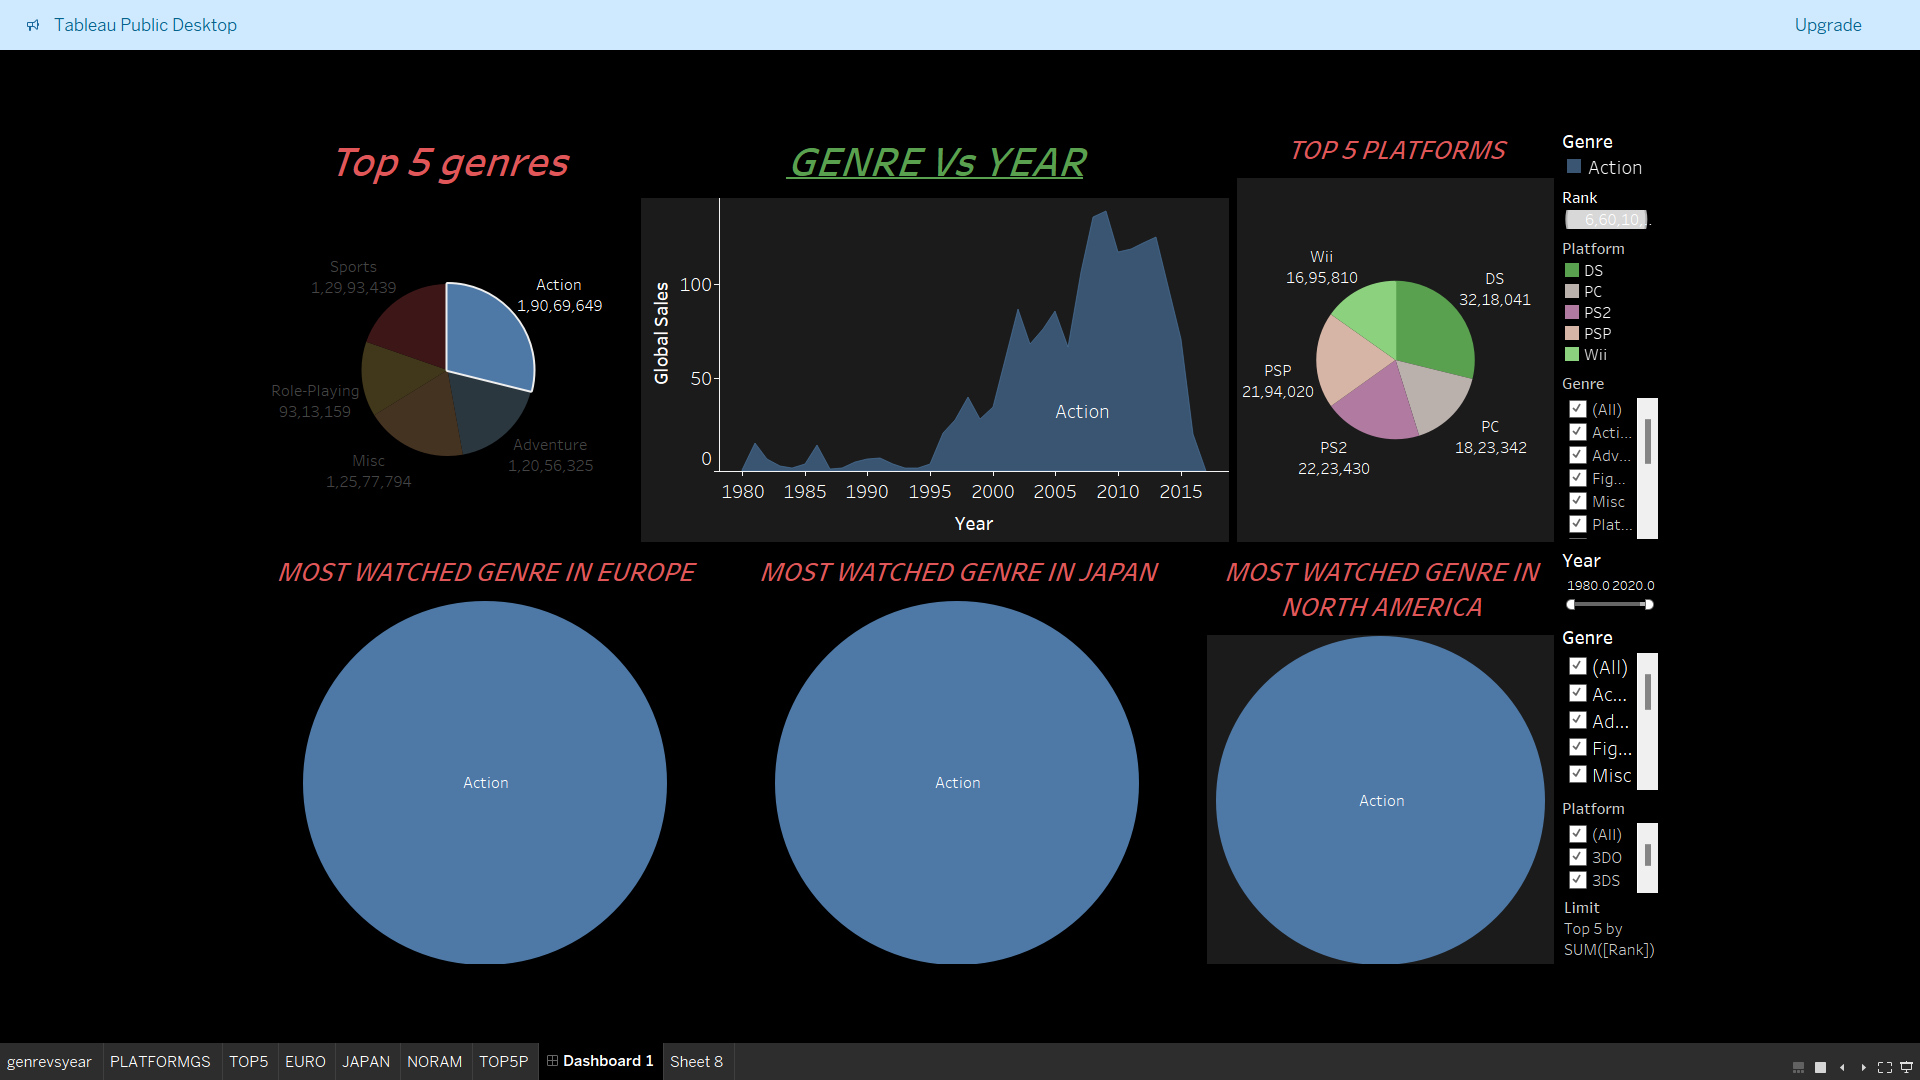

Layout of this report page (visuals, bound fields, positions):
{"tool":"tableau","page":{"name":"Dashboard 1","canvas":[1000,1000],"units":"permille","ordinal":0},"visuals":[{"type":"worksheet","title":"TOP5","mark":"Pie","box":[6.1,10.6,265.1,489.4]},{"type":"worksheet","title":"genrevsyear","mark":"Area","rows":["global_sales"],"cols":["year"],"box":[271.1,10.6,416.7,489.4]},{"type":"worksheet","title":"TOP5P","mark":"Pie","box":[687.8,10.6,227.4,489.4]},{"type":"legend","title":"genrevsyear","param":"[federated.1hepfrq0s1xbnm12bm8op057nvcd].[none:genre:nk]","box":[915.1,10.6,78.8,164.1]},{"type":"legend","title":"TOP5","param":"[federated.1hepfrq0s1xbnm12bm8op057nvcd].[sum:rank:qk]","box":[915.1,174.8,78.8,61.1]},{"type":"legend","title":"TOP5P","param":"[federated.1hepfrq0s1xbnm12bm8op057nvcd].[none:platform:nk]","box":[915.1,235.8,78.8,164.1]},{"type":"filter","title":"EURO","param":"[federated.1hepfrq0s1xbnm12bm8op057nvcd].[none:genre:nk]","box":[915.1,400,78.8,164.1]},{"type":"worksheet","title":"EURO","mark":"Circle","box":[6.1,500,316.6,489.4]},{"type":"worksheet","title":"JAPAN","mark":"Circle","box":[322.7,500,343.9,489.4]},{"type":"worksheet","title":"NORAM","mark":"Circle","box":[666.6,500,248.6,489.4]},{"type":"filter","title":"genrevsyear","param":"[federated.1hepfrq0s1xbnm12bm8op057nvcd].[none:year:qk]","box":[915.1,564.1,78.8,96.9]},{"type":"filter","title":"genrevsyear","param":"[federated.1hepfrq0s1xbnm12bm8op057nvcd].[none:genre:nk]","box":[915.1,661.1,78.8,164.1]},{"type":"filter","title":"TOP5P","param":"[federated.1hepfrq0s1xbnm12bm8op057nvcd].[none:platform:nk]","box":[915.1,825.2,78.8,164.2]}]}

Visuals, with their boxes on the dashboard's canvas, which has no fixed pixel size, in thousandths of its width and height (x1, y1, x2, y2). These are canvas units, not pixel positions in the 1920x1080 screenshot, which may show the page scaled, cropped or inside an application window:
"TOP5" worksheet (Pie marks): select_region(6, 11, 271, 500)
"genrevsyear" worksheet (Area marks): select_region(271, 11, 688, 500)
"TOP5P" worksheet (Pie marks): select_region(688, 11, 915, 500)
"genrevsyear" legend: select_region(915, 11, 994, 175)
"TOP5" legend: select_region(915, 175, 994, 236)
"TOP5P" legend: select_region(915, 236, 994, 400)
"EURO" filter: select_region(915, 400, 994, 564)
"EURO" worksheet (Circle marks): select_region(6, 500, 323, 989)
"JAPAN" worksheet (Circle marks): select_region(323, 500, 667, 989)
"NORAM" worksheet (Circle marks): select_region(667, 500, 915, 989)
"genrevsyear" filter: select_region(915, 564, 994, 661)
"genrevsyear" filter: select_region(915, 661, 994, 825)
"TOP5P" filter: select_region(915, 825, 994, 989)
